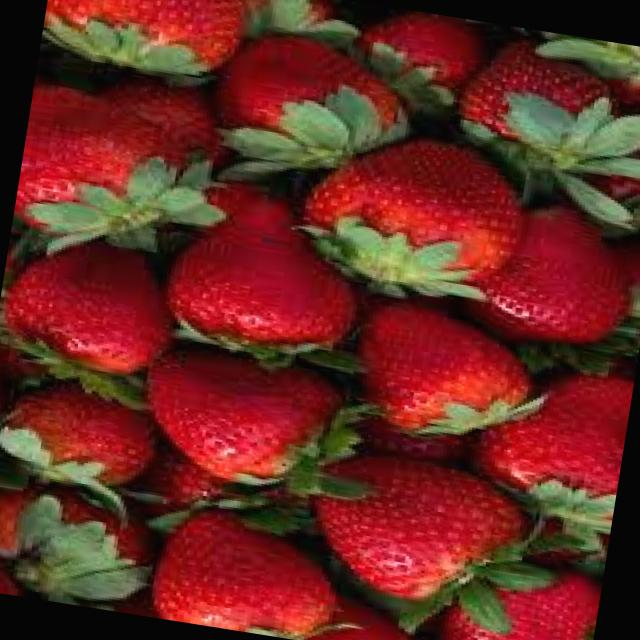strawberry: (272, 94, 551, 323), (300, 444, 536, 618), (138, 341, 357, 498), (344, 295, 545, 452), (209, 25, 416, 174), (0, 223, 183, 385), (151, 502, 356, 640), (454, 30, 627, 164)
